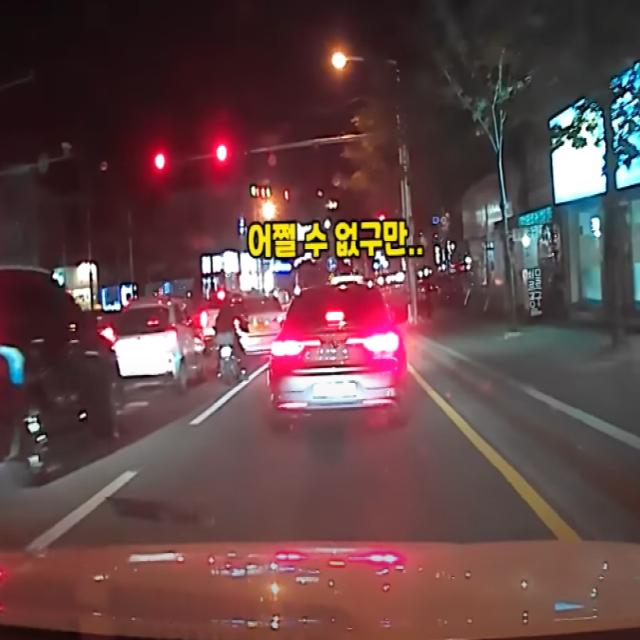Red Light: (152, 149, 168, 173), (214, 142, 229, 166)
